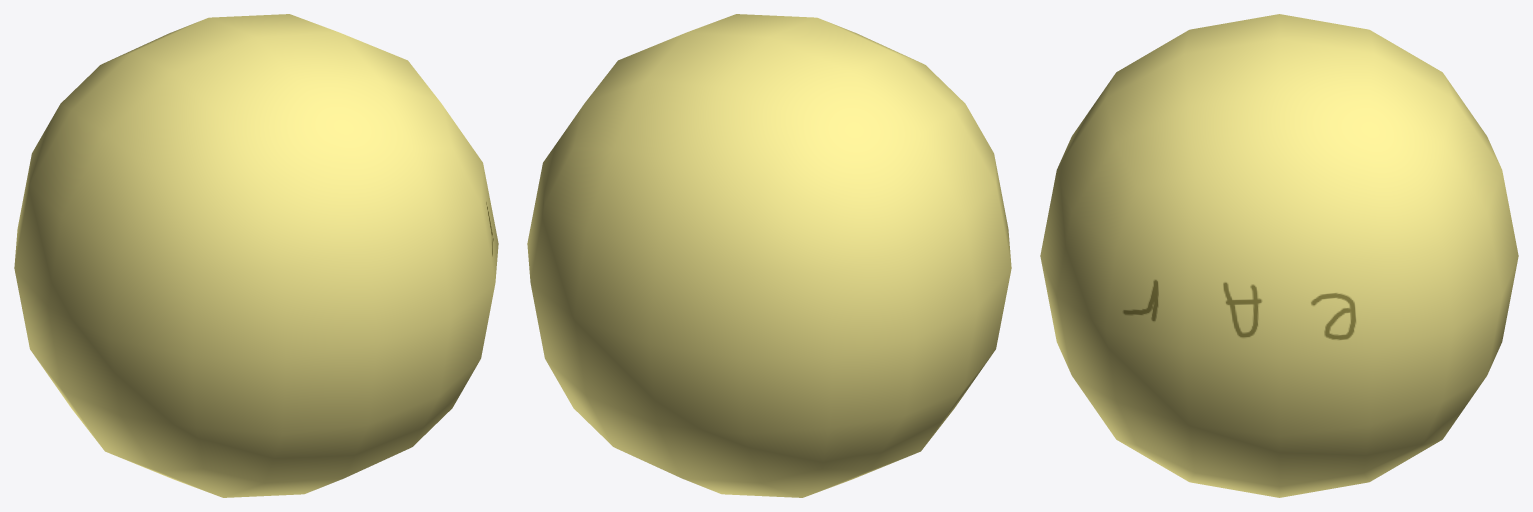
Rendered from CrystalBall.fbx.
The picture shows the model from 3 angles, left to right: view 1: azimuth 30°, elevation 25°; view 2: azimuth 150°, elevation 25°; view 3: azimuth 270°, elevation 25°; orthographic projection.
Parts seen in each view (by area): view 1: CrystalBall; view 2: CrystalBall; view 3: CrystalBall.
Boxes of the visible parts, x1=… form: CrystalBall: x1=14, y1=14, x2=498, y2=497; CrystalBall: x1=527, y1=14, x2=1011, y2=497; CrystalBall: x1=1040, y1=14, x2=1518, y2=497.
Size of the model in its own units: 32.07 by 32.07 by 32.07.
1 material, 1 textured.
